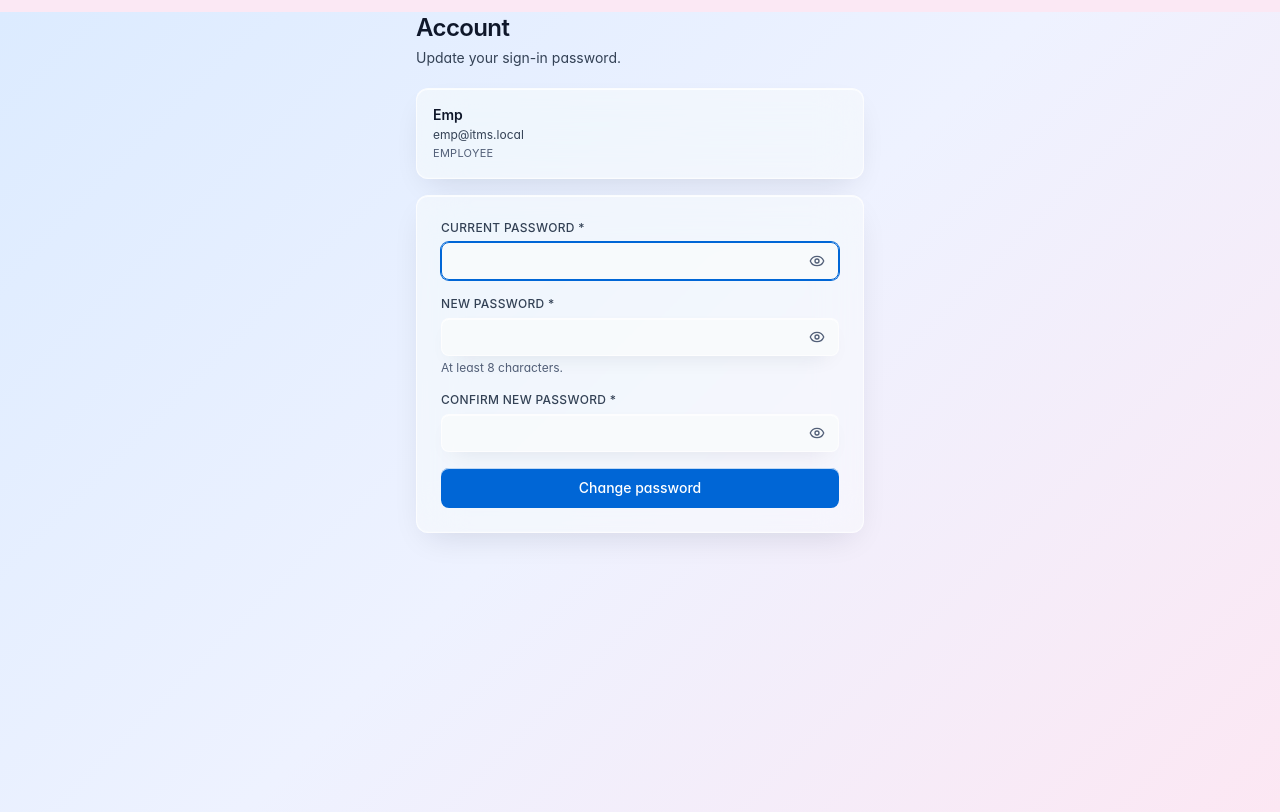
it: Account submit validation (FORM-02) › short new password shows a length error and focuses the new-password field
Expected: the button "Change password" is shown, [441,468,839,508]
Type "oldpassword" into the password field with id "account-current". click: (640, 260)
box: [441,242,839,280]
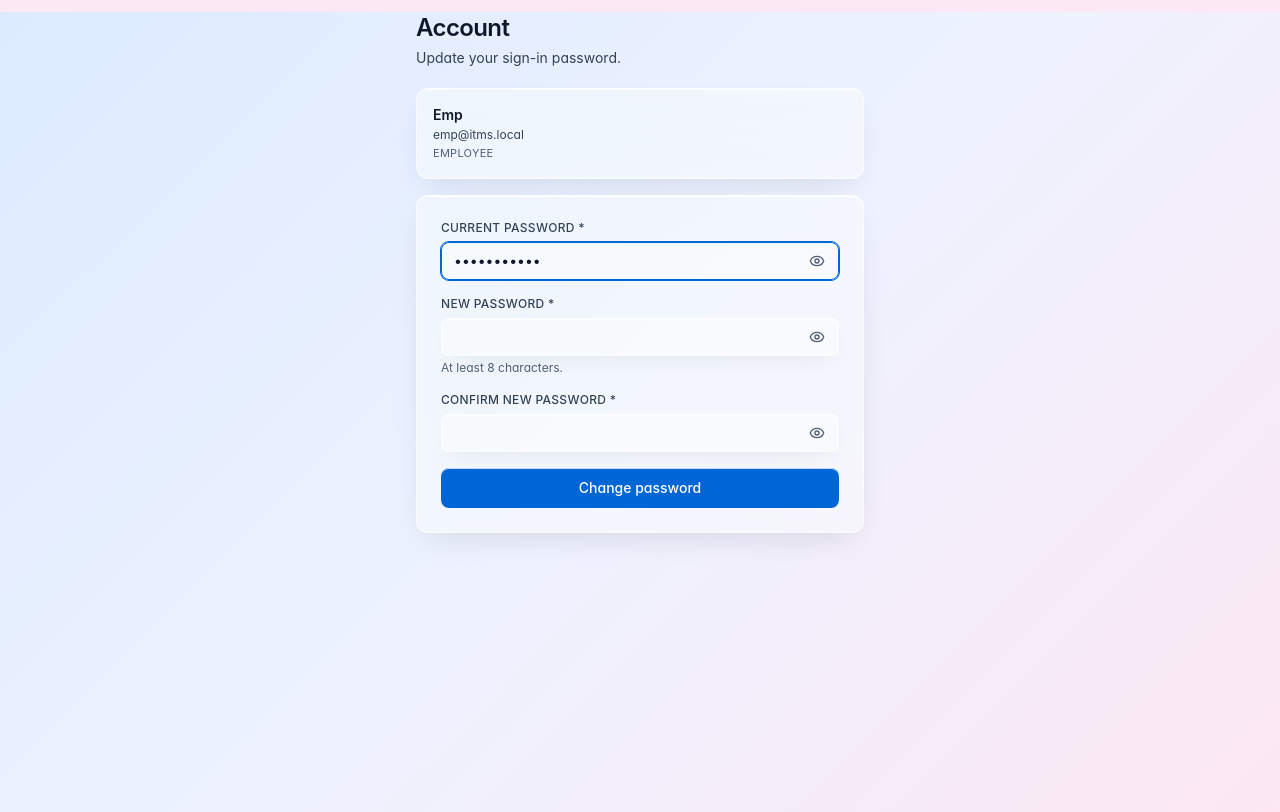
Type "short" into the password field with id "account-new". click: (640, 336)
box: [441,318,839,356]
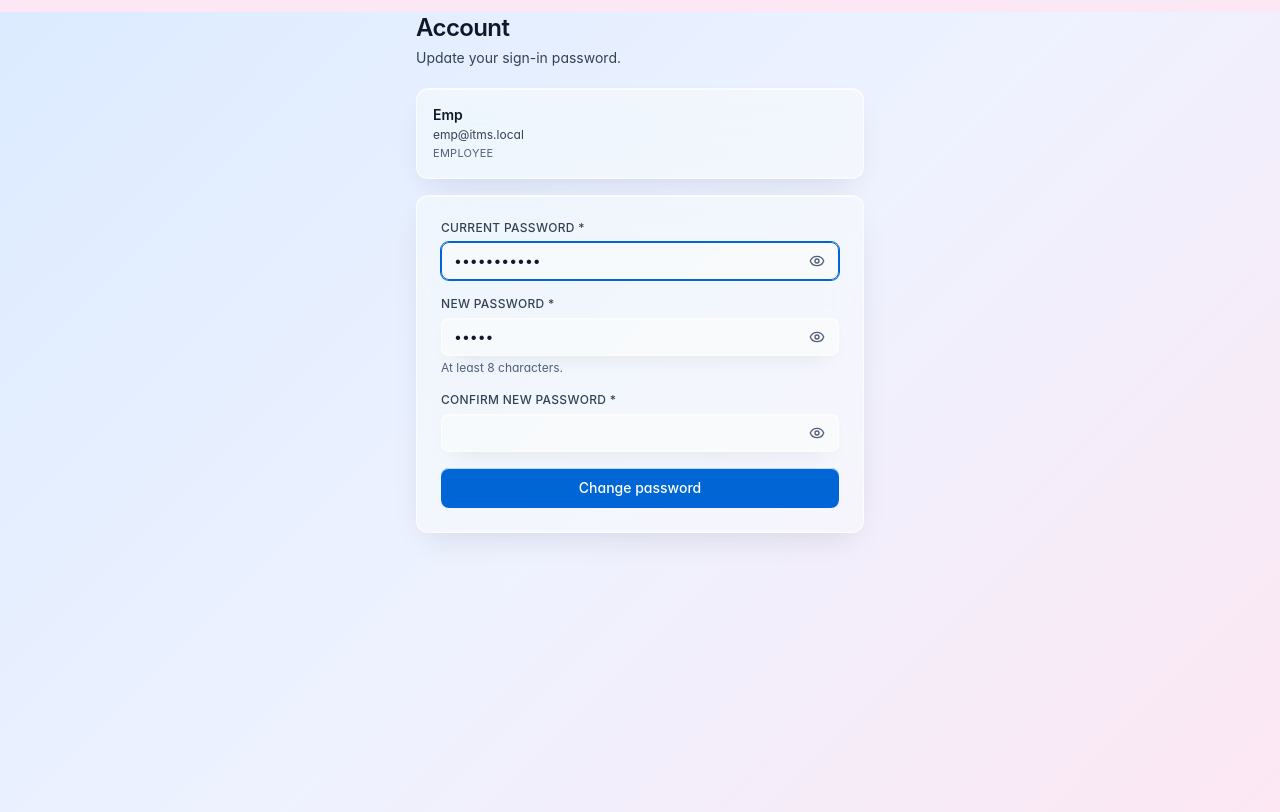
Type "short" into the password field with id "account-confirm". click: (640, 432)
box: [441,414,839,452]
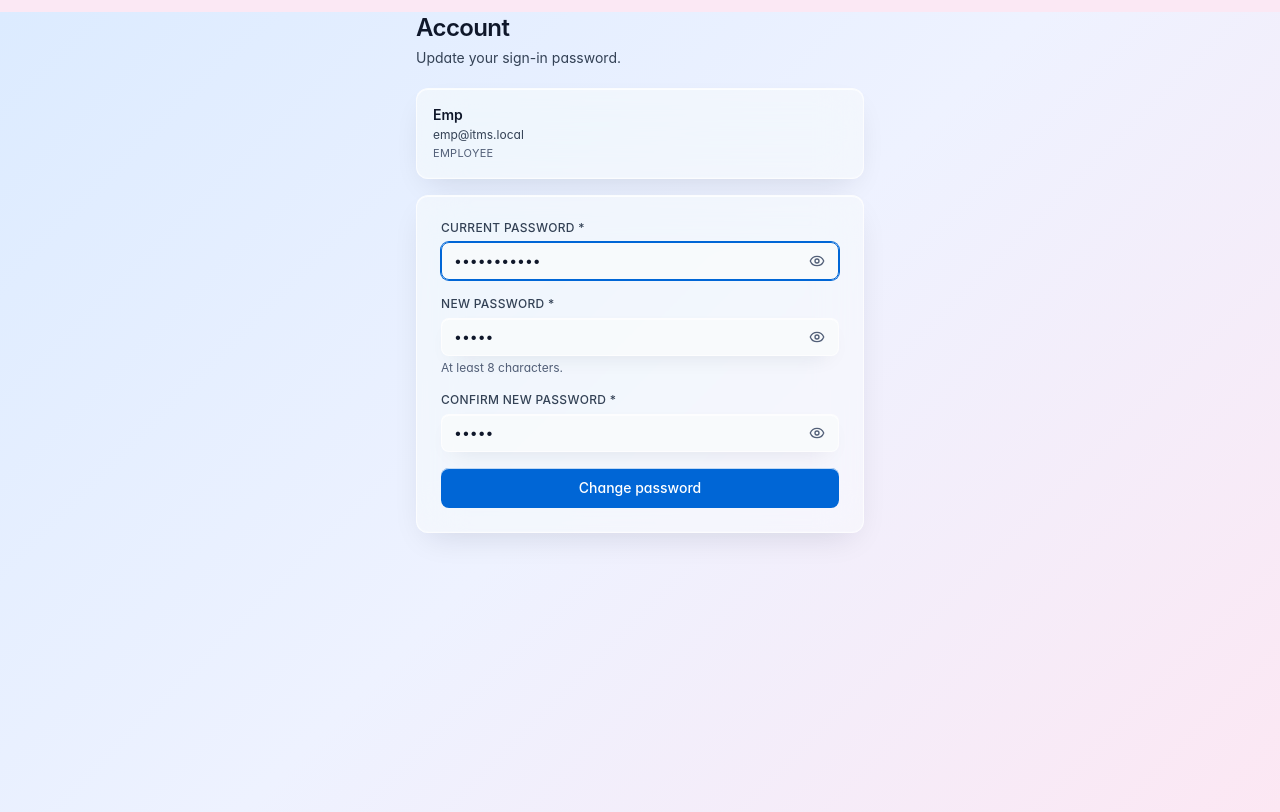
Click the button "Change password". click: (640, 488)
box: [441,468,839,508]
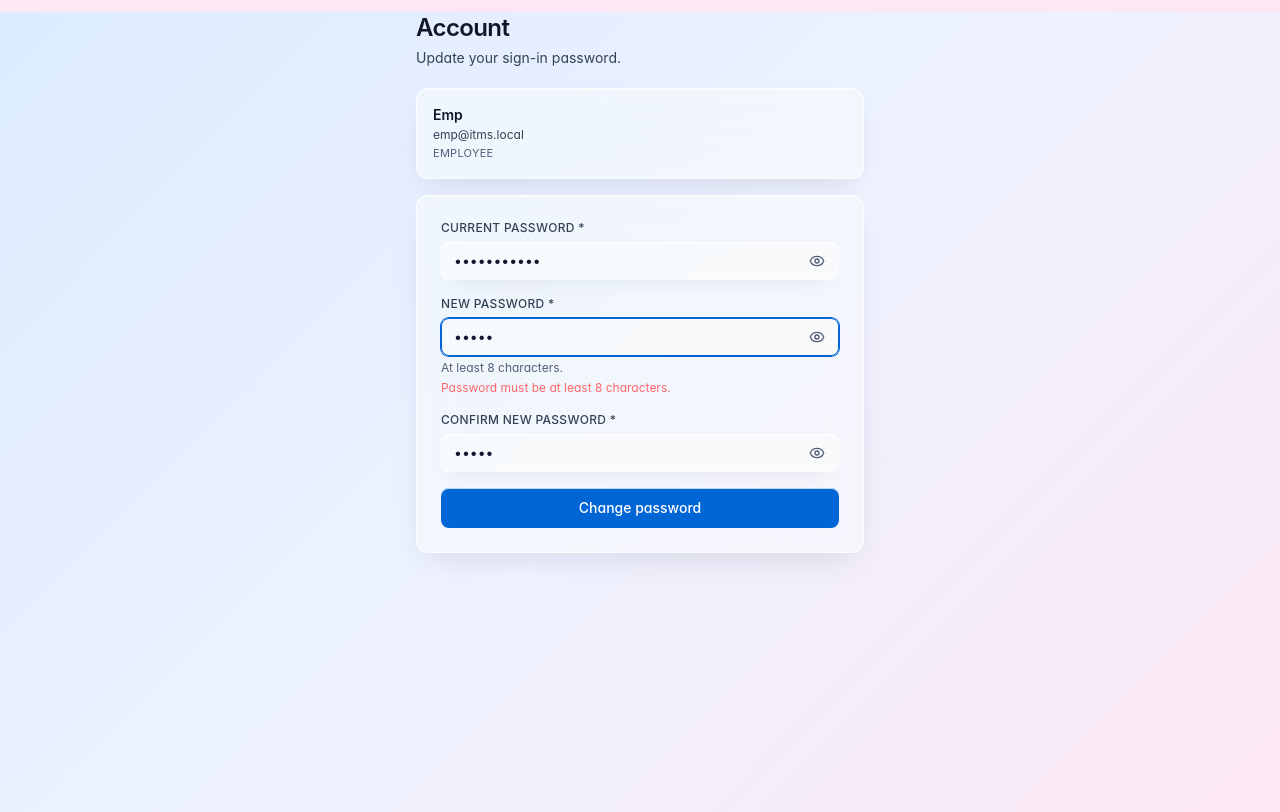
Result: the text "Password must be at least 8 characters." is shown at [441,380,671,394]
